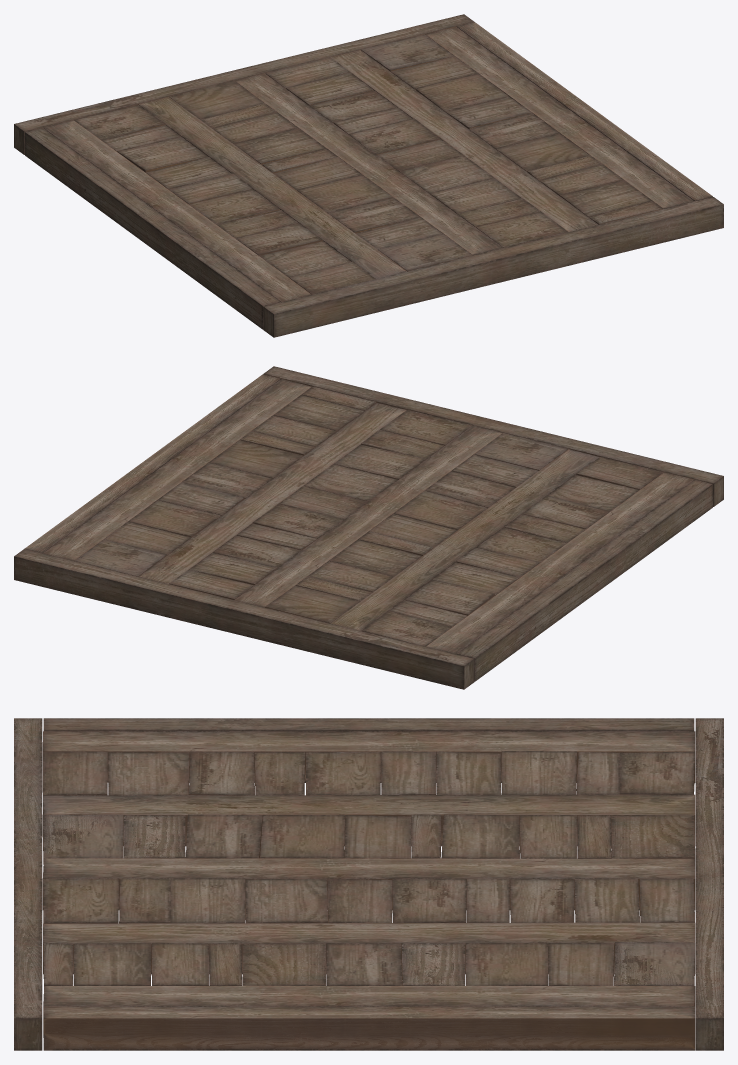
File: SM_Floor01c.fbx
3 views of the same model, one above another, from view 1: azimuth 30°, elevation 25°; view 2: azimuth 150°, elevation 25°; view 3: azimuth 270°, elevation 25° (orthographic). The views are drawn at different scales.
Visible parts, largest first — view 1: SM_Floor01c; view 2: SM_Floor01c; view 3: SM_Floor01c.
Part boxes in pixels (<box>): SM_Floor01c: <box>14,14,723,337</box>; SM_Floor01c: <box>14,366,723,689</box>; SM_Floor01c: <box>14,718,723,1050</box>.
Size of the model in its own units: 300 by 300 by 15.54.
1 material, 1 textured.
